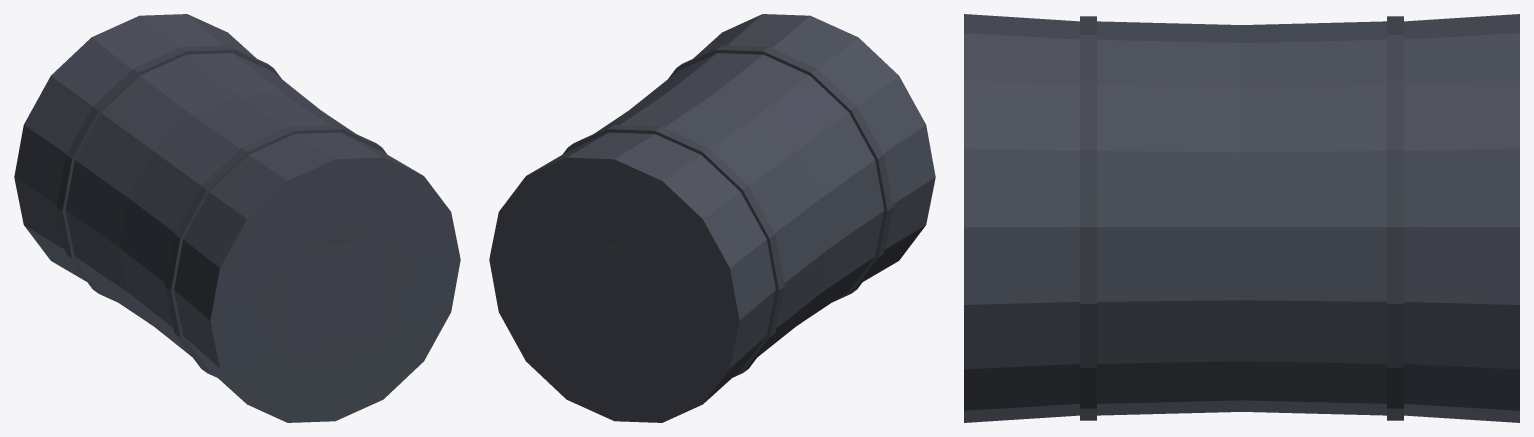
The model's file is Hay_01.fbx.
The picture shows the model from 3 angles, left to right: view 1: azimuth 30°, elevation 25°; view 2: azimuth 150°, elevation 25°; view 3: azimuth 270°, elevation 25°; orthographic projection. The views are drawn at different scales.
Parts seen in each view (by area): view 1: Hay_01; view 2: Hay_01; view 3: Hay_01.
Boxes of the visible parts, <box> form: Hay_01: <box>14,14,460,422</box>; Hay_01: <box>489,14,935,422</box>; Hay_01: <box>964,14,1519,422</box>.
Size of the model in its own units: 1.35 by 1.35 by 1.84.
